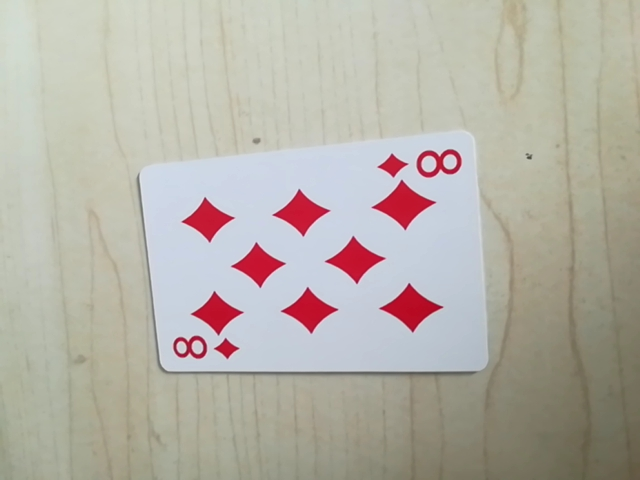fk 8: (375, 142, 467, 185), (166, 331, 242, 369)
